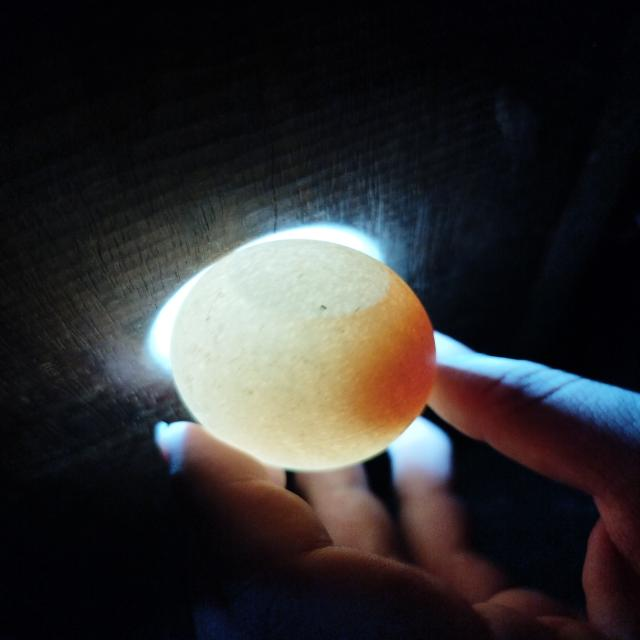Camara de Ar: (233, 239, 391, 317)
